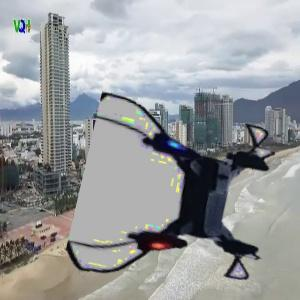drone: (82, 98, 278, 294)
